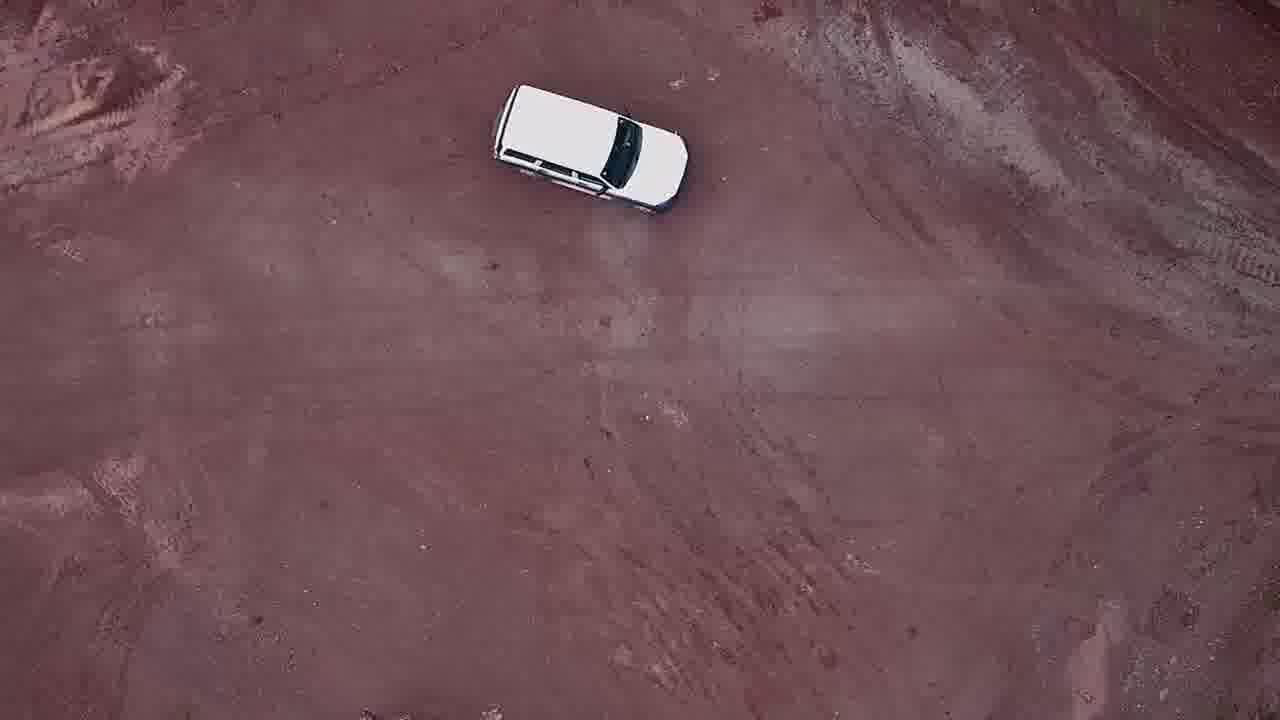light_motor_vehicle: (491, 81, 691, 214)
